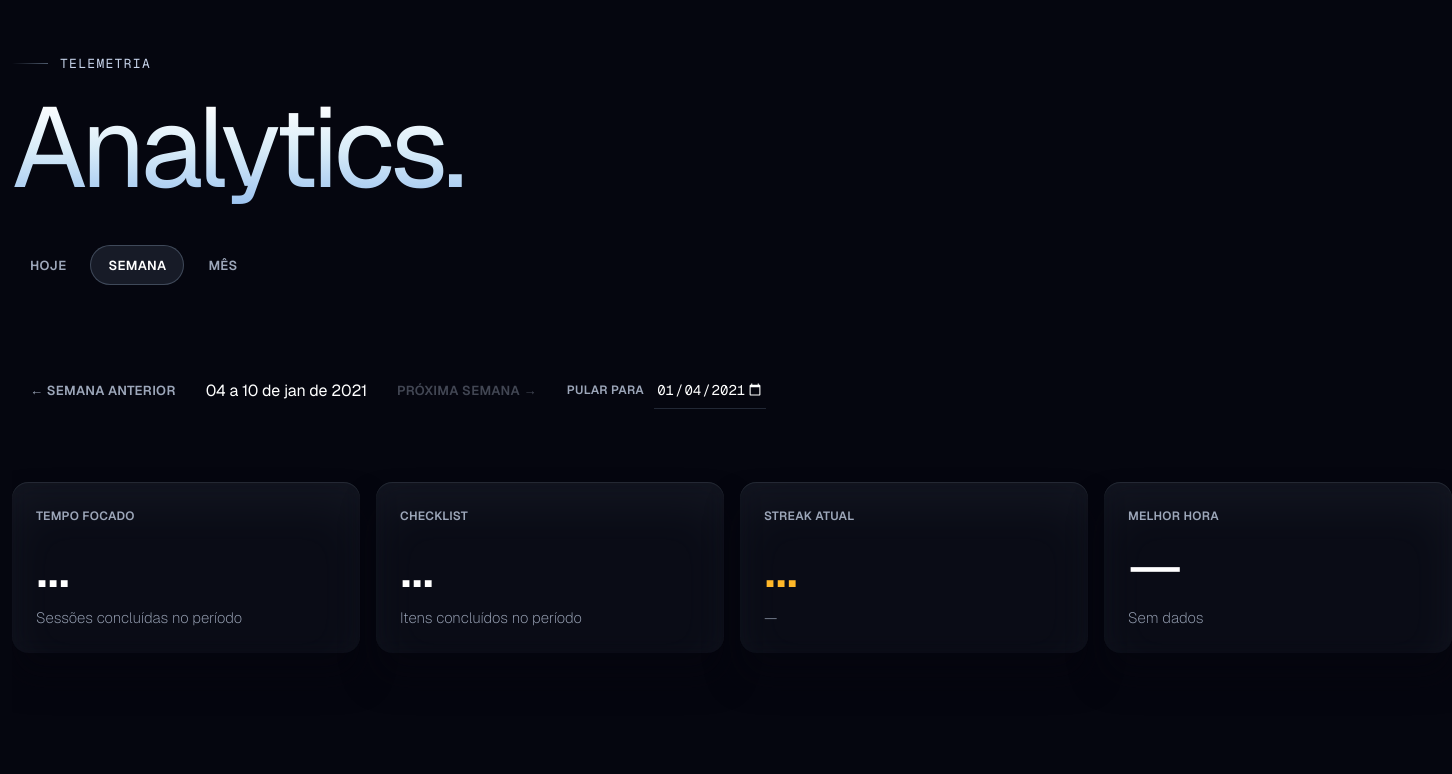
Test: navigates across an ISO year boundary via the previous-week button with correct queries and label
Click the button "← Semana anterior" at [103, 390], box [12, 370, 194, 410]
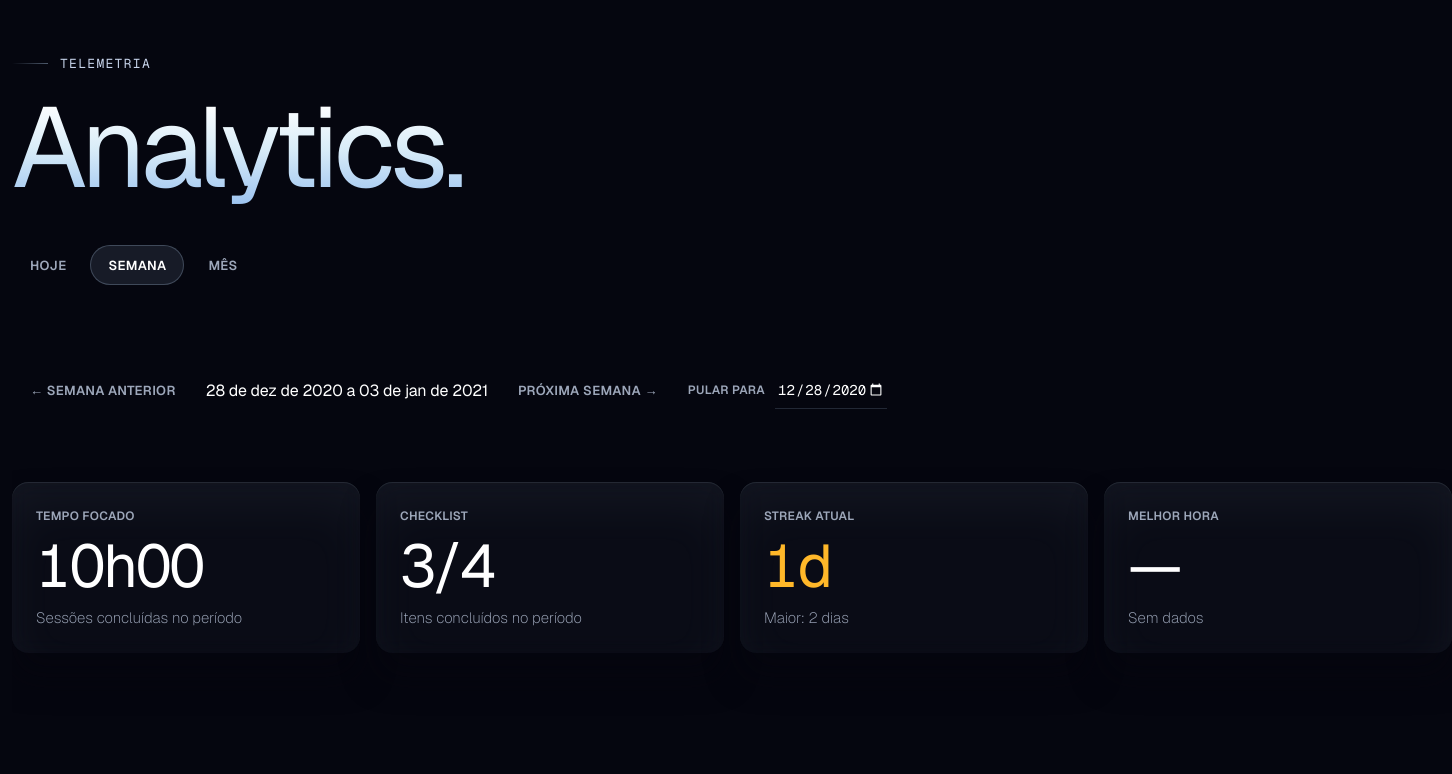
Now the text "28 de dez de 2020 a 03 de jan de 2021" is shown, box [206, 380, 488, 400]
